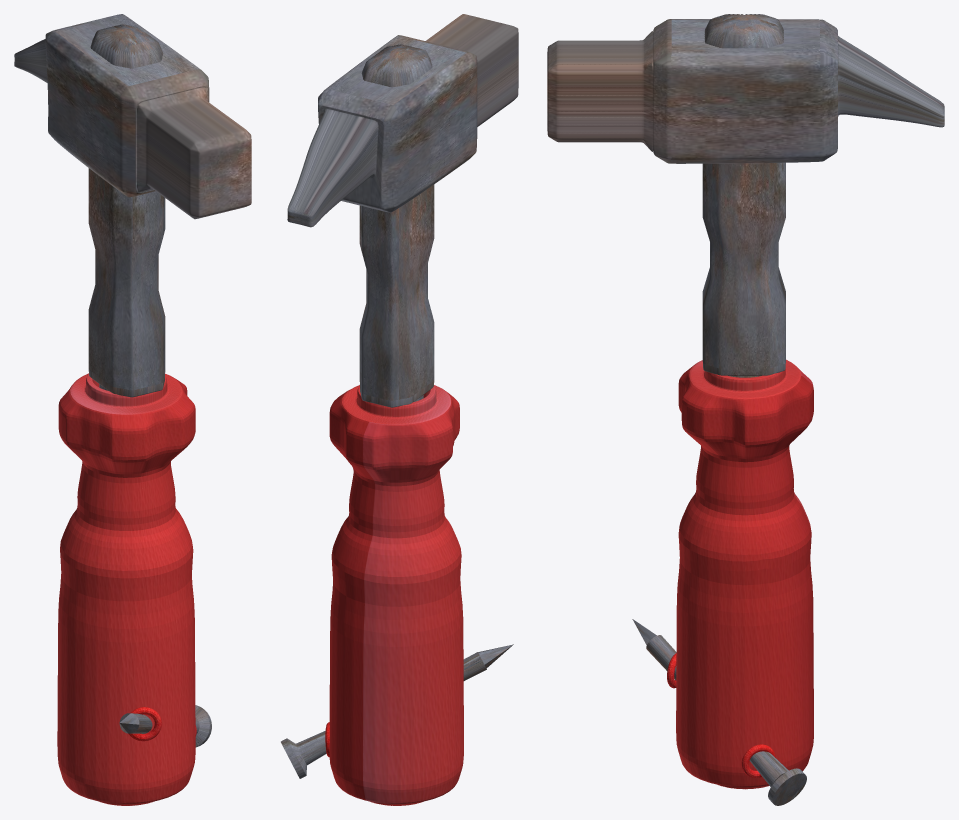
File: Martelo_4.fbx
The picture shows the model from 3 angles, left to right: view 1: azimuth 30°, elevation 25°; view 2: azimuth 150°, elevation 25°; view 3: azimuth 270°, elevation 25°; orthographic projection. The views are drawn at different scales.
Visible parts, largest first — view 1: Cylinder.003, Cube.009, Cube.008, Cylinder.005, Torus.002; view 2: Cylinder.003, Cube.009, Cube.008, Cylinder.005; view 3: Cylinder.003, Cube.009, Cube.008, Cylinder.005, Torus.002.
Boxes of the visible parts, x1,y1,x2,y2 form: Cylinder.003: [57, 373, 195, 805]; Cube.009: [14, 14, 251, 219]; Cube.008: [88, 24, 165, 397]; Cylinder.005: [119, 705, 211, 747]; Torus.002: [128, 707, 196, 741]; Cylinder.003: [329, 385, 463, 805]; Cube.009: [287, 14, 518, 227]; Cube.008: [359, 44, 434, 407]; Cylinder.005: [281, 644, 513, 778]; Cylinder.003: [676, 359, 813, 789]; Cube.009: [547, 19, 944, 163]; Cube.008: [702, 14, 785, 377]; Cylinder.005: [632, 619, 806, 805]; Torus.002: [667, 653, 775, 777].
Bounding box in the file's own units: 257 × 1134 × 539.
5 materials, 5 textured.
